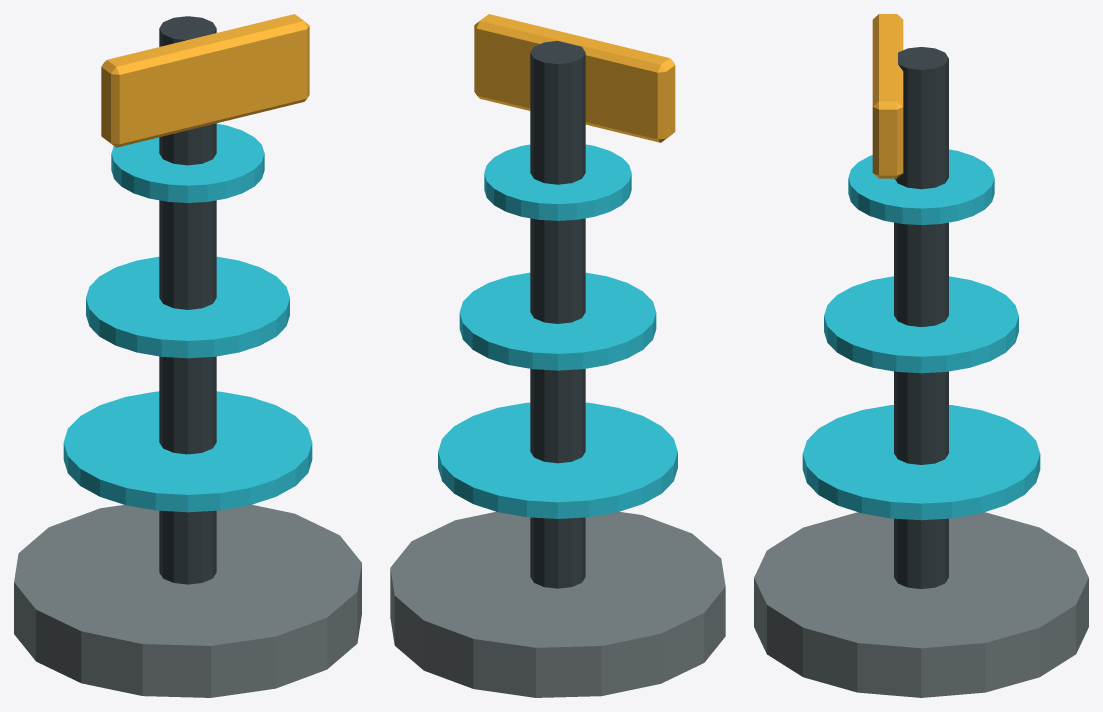
The model's file is rain_city_wayfinding_beacon.glb.
3 renders of one model, left to right at view 1: azimuth 30°, elevation 25°; view 2: azimuth 150°, elevation 25°; view 3: azimuth 270°, elevation 25°, orthographic. The views are drawn at different scales.
Parts seen in each view (by area): view 1: Foundation, Rain_Ring_1.2, Mast, Original_Wave_Mark, Rain_Ring_2.2, Rain_Ring_3.2; view 2: Foundation, Mast, Rain_Ring_1.2, Original_Wave_Mark, Rain_Ring_2.2, Rain_Ring_3.2; view 3: Foundation, Mast, Rain_Ring_1.2, Rain_Ring_2.2, Rain_Ring_3.2, Original_Wave_Mark.
Part boxes in pixels (x1,y1,x2,y2): Foundation: (14, 505, 361, 697); Rain_Ring_1.2: (63, 391, 312, 512); Mast: (159, 16, 216, 584); Original_Wave_Mark: (101, 14, 309, 147); Rain_Ring_2.2: (86, 256, 289, 358); Rain_Ring_3.2: (111, 123, 264, 202); Foundation: (390, 511, 725, 697); Mast: (530, 41, 585, 588); Rain_Ring_1.2: (438, 402, 677, 518); Original_Wave_Mark: (474, 14, 675, 142); Rain_Ring_2.2: (459, 272, 656, 370); Rain_Ring_3.2: (484, 144, 631, 220); Foundation: (754, 512, 1088, 697); Mast: (894, 47, 948, 588); Rain_Ring_1.2: (802, 405, 1040, 520); Rain_Ring_2.2: (824, 276, 1018, 373); Rain_Ring_3.2: (848, 149, 994, 224); Original_Wave_Mark: (872, 14, 903, 178).
Size of what is drawn, in the model's own units: 2.2 by 4.13 by 2.2.
